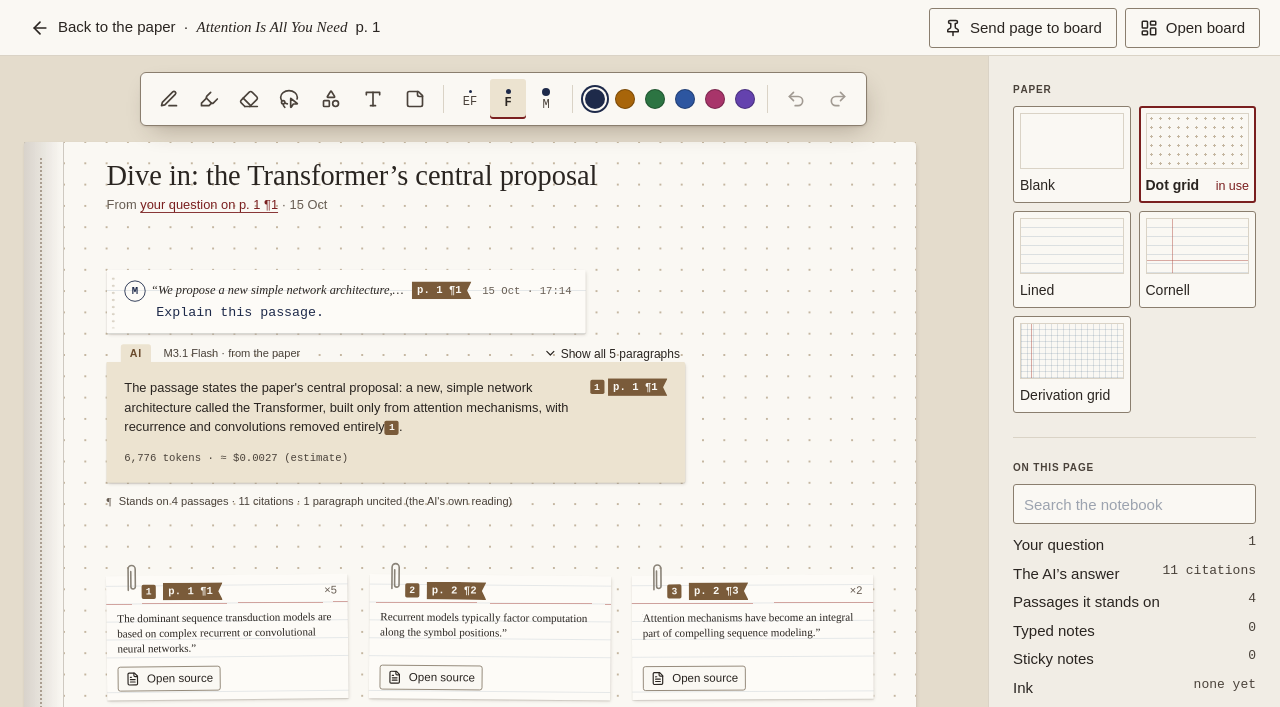
it: the template’s saving, at the edges › choosing the saved template back clears a failure, and Try again then sends nothing
The width and height of the screenshot is (1280, 707).
Step 1. Click the radio button labelled "Lined" → (1072, 260), box [1013,211,1130,308]
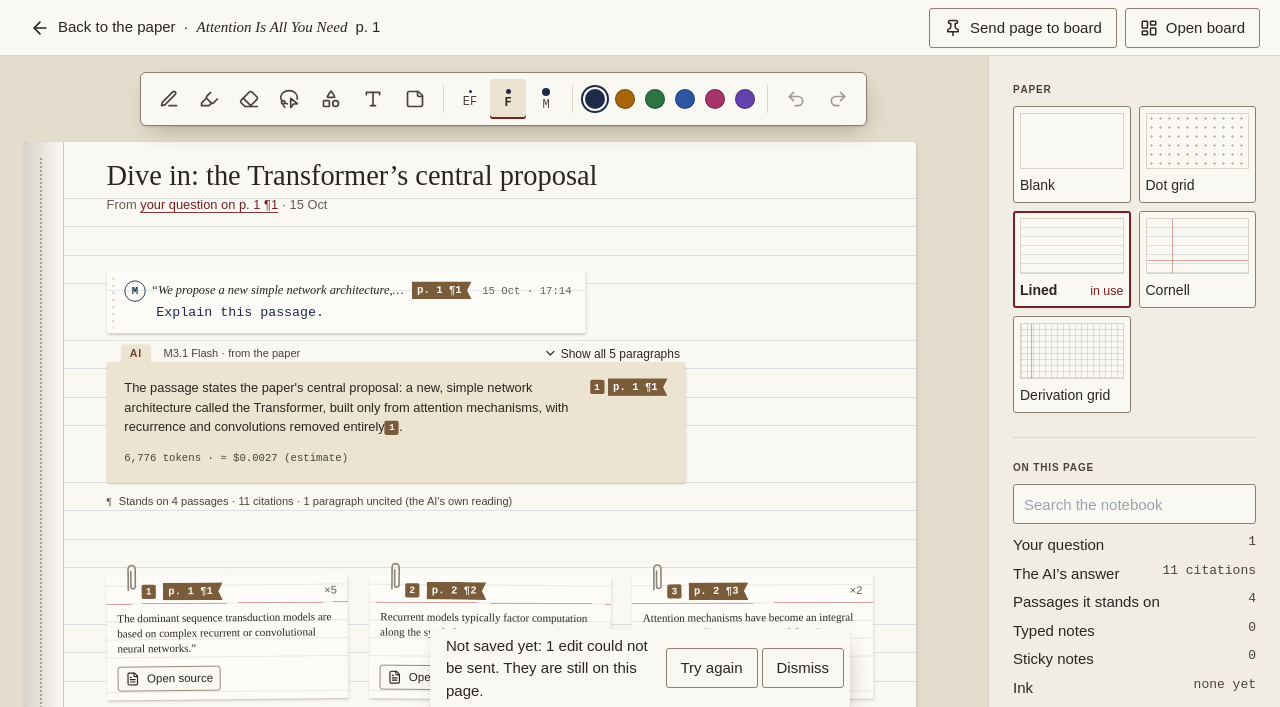
Expected: the text "Not saved yet: 1 edit could not be sent. They are still on this page." is shown, [446,634,662,702]
Step 2. Click the radio button labelled "Dot grid" → (1197, 154), box [1138,106,1256,203]
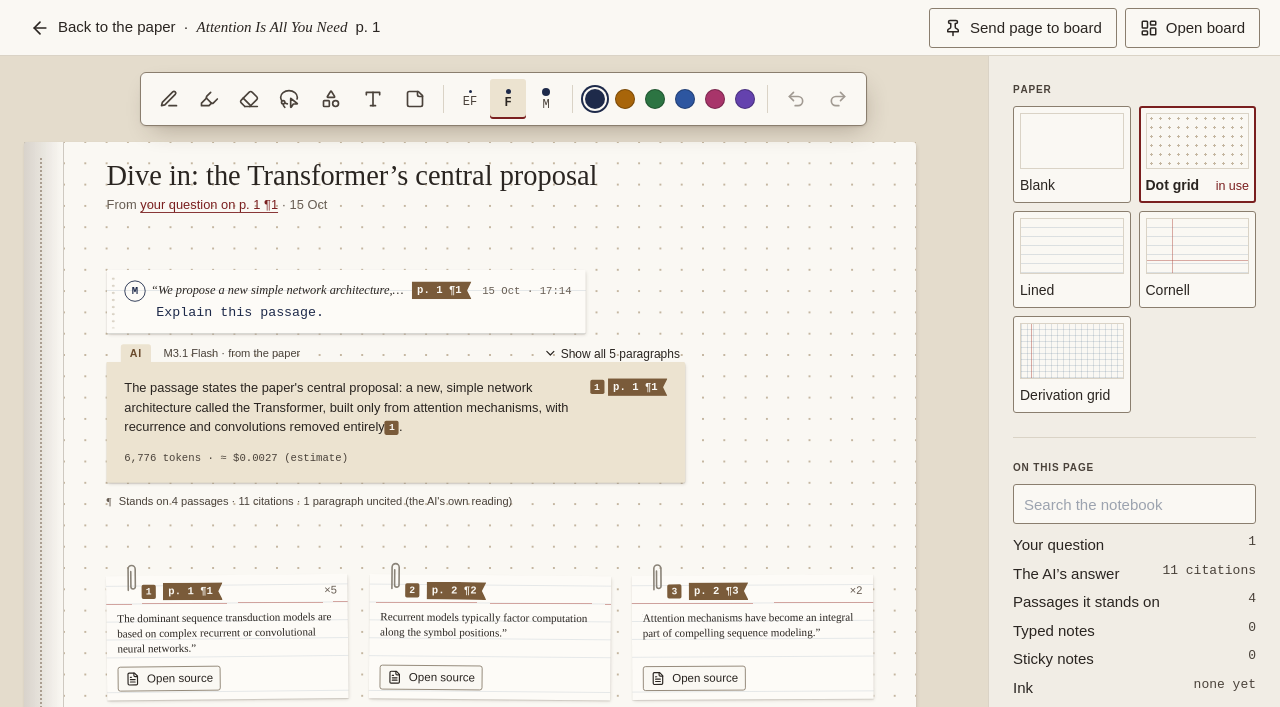
Expected: the text "Not saved" is gone
Expected: the button "Try again" is gone
